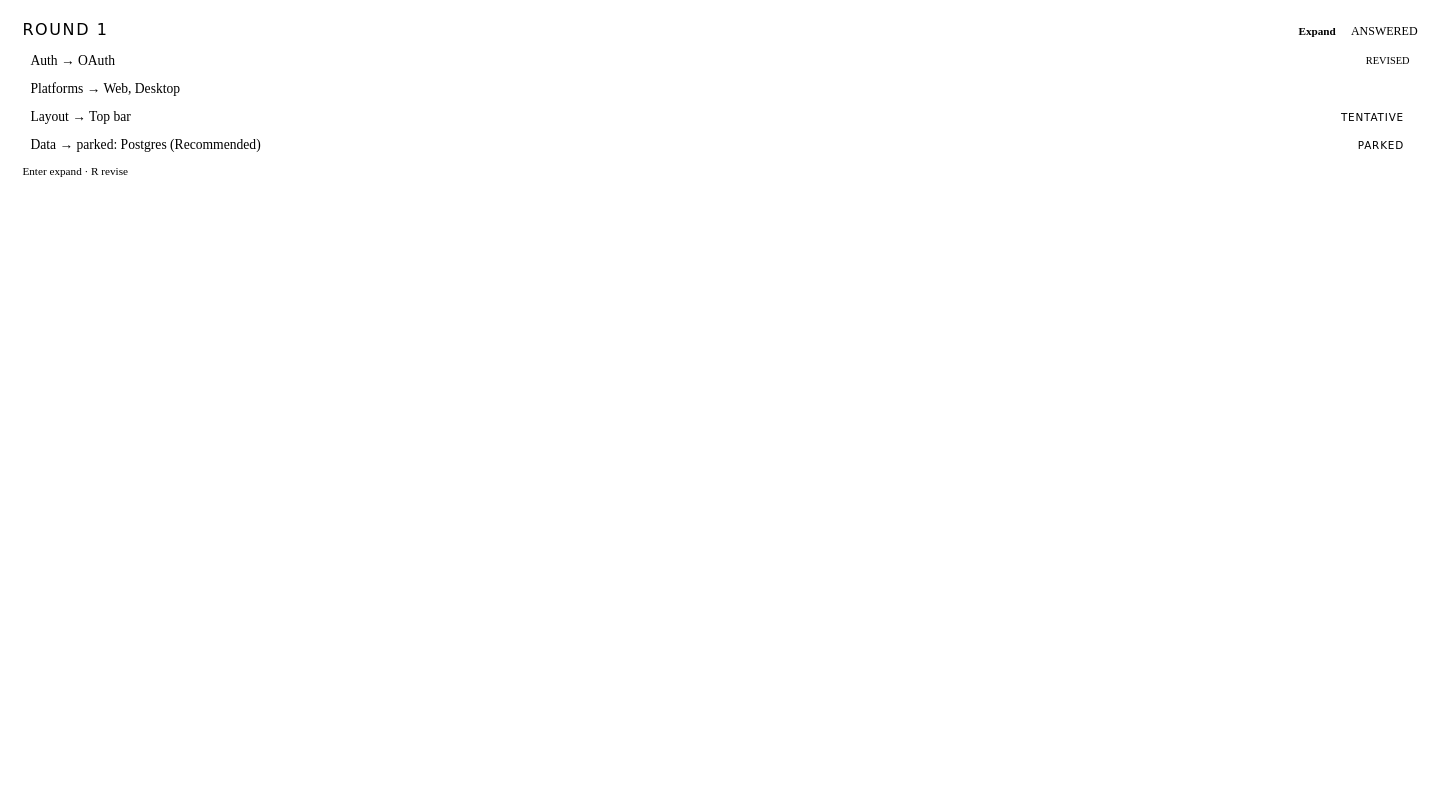
Scenario: QuestionRoundCard answer chips (D25) › R on a focused chip opens its revise editor; Expand is a button
Press R in the button "Platforms → Web, Desktop", box [22,77,1418,101]
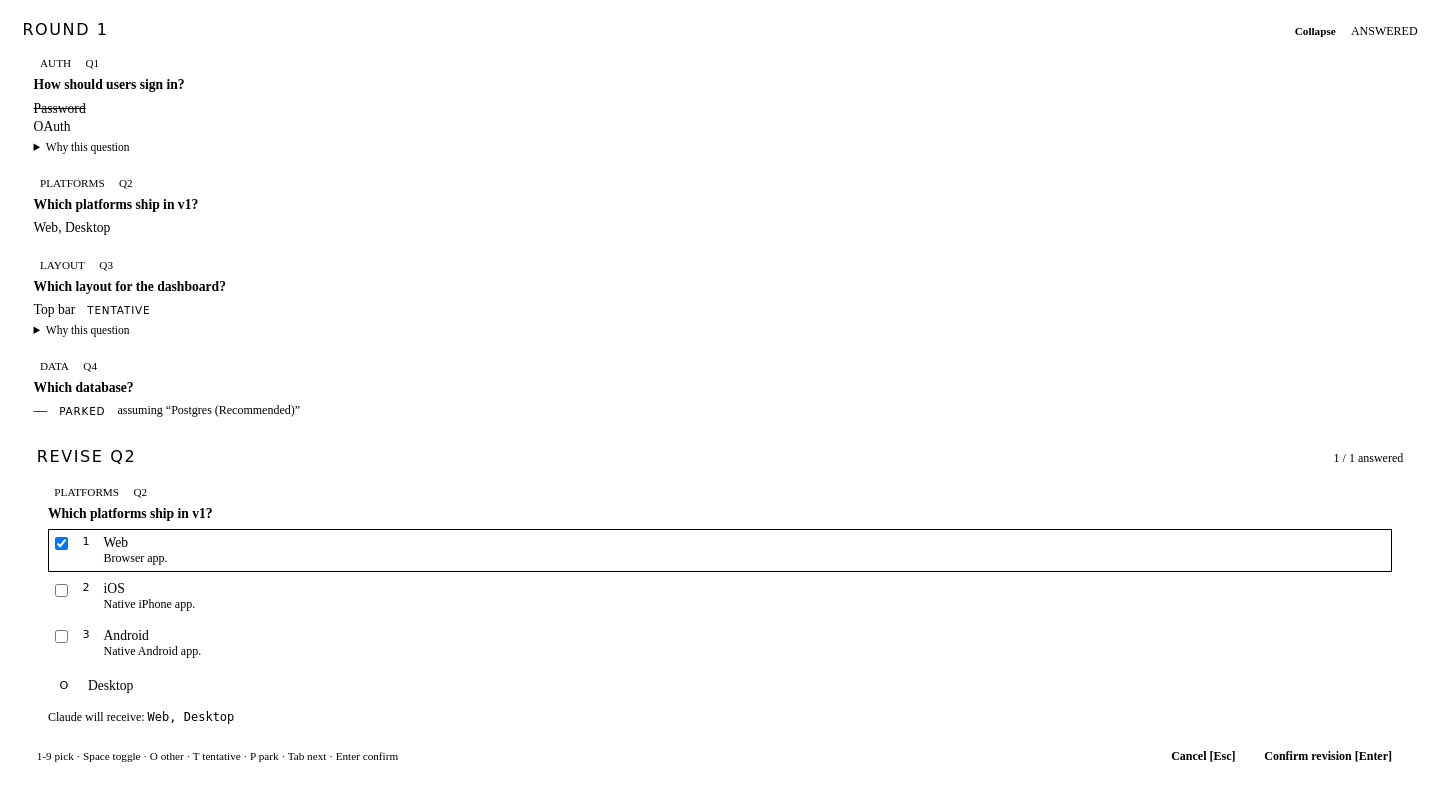
Expected: the field named "Other" holds "Desktop", [82,674,1386,698]
Press Escape in the form "REVISE Q2", box [22,435,1418,780]
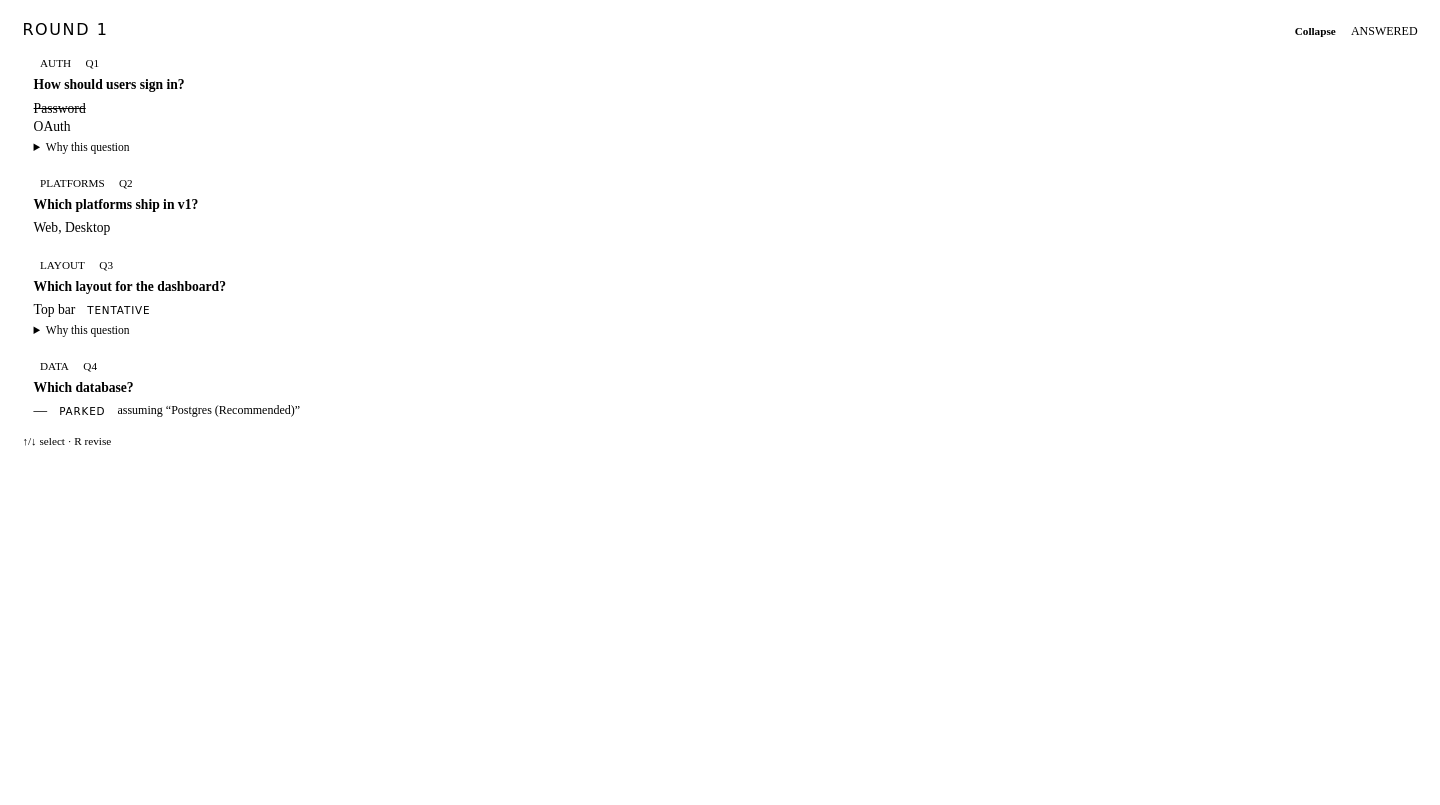
Click the button "Collapse": (1315, 31) [1288,23,1343,39]
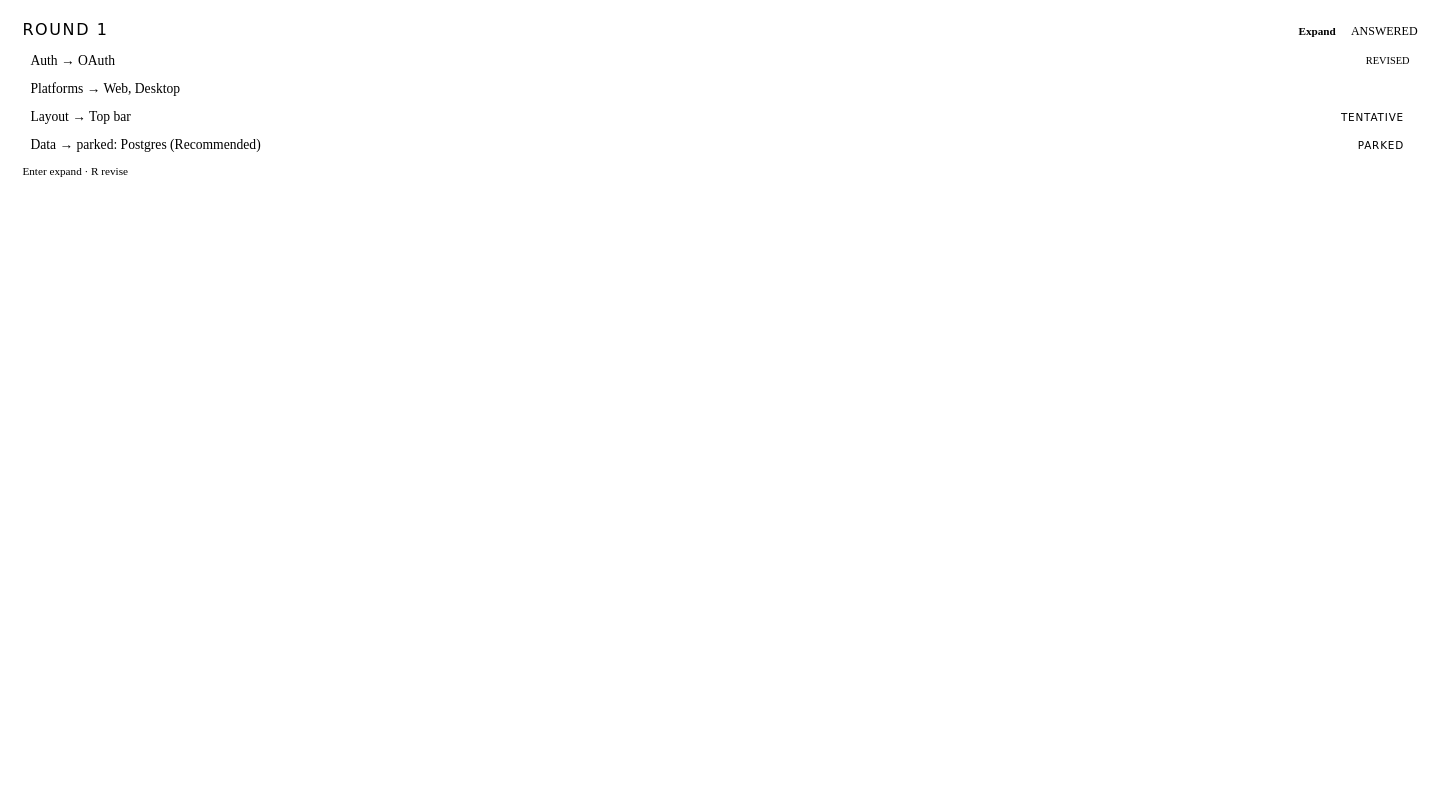
Click the button "Expand": (1317, 31) [1291,23,1343,39]
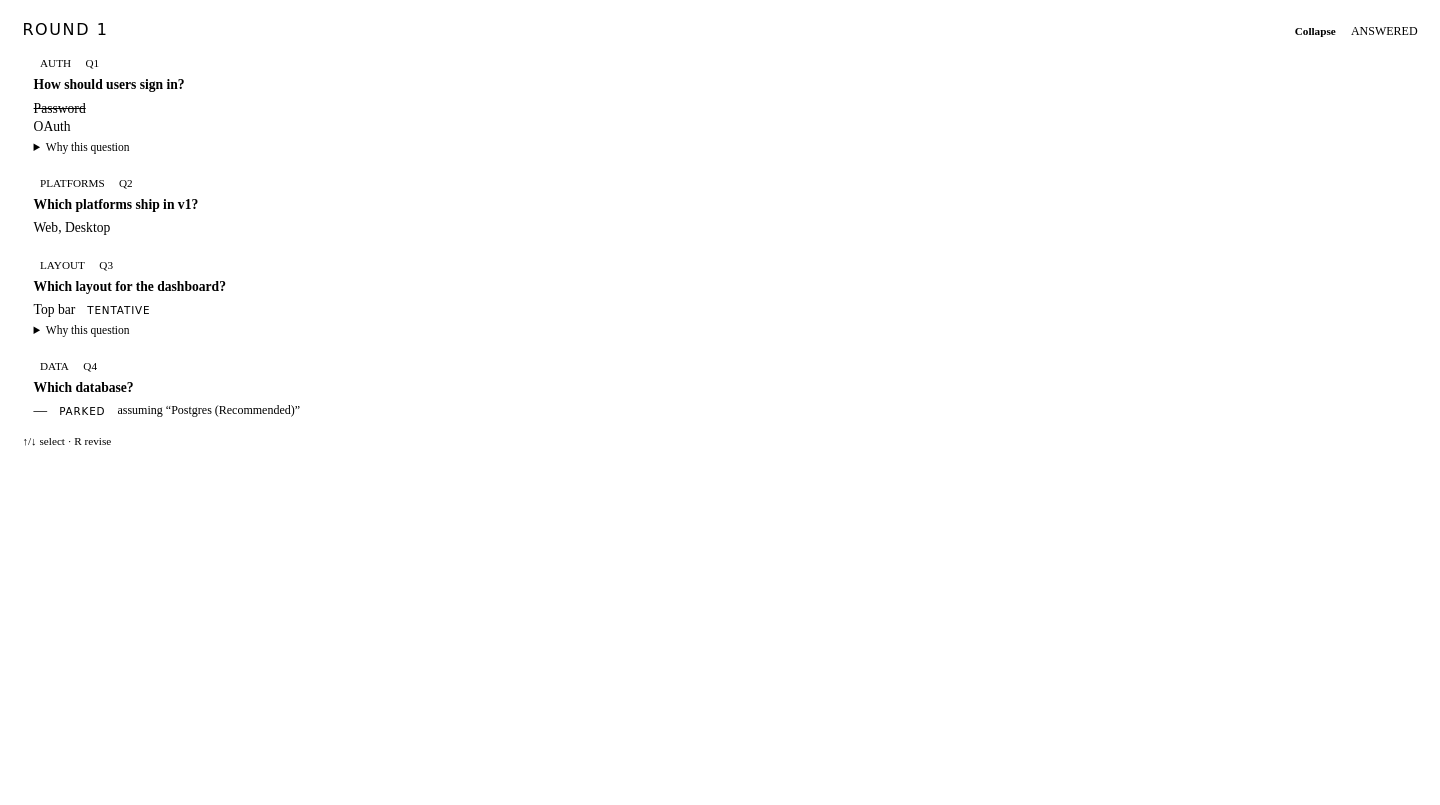
Expected: the list named "Answered round 1" is shown, [34,57,300,418]
